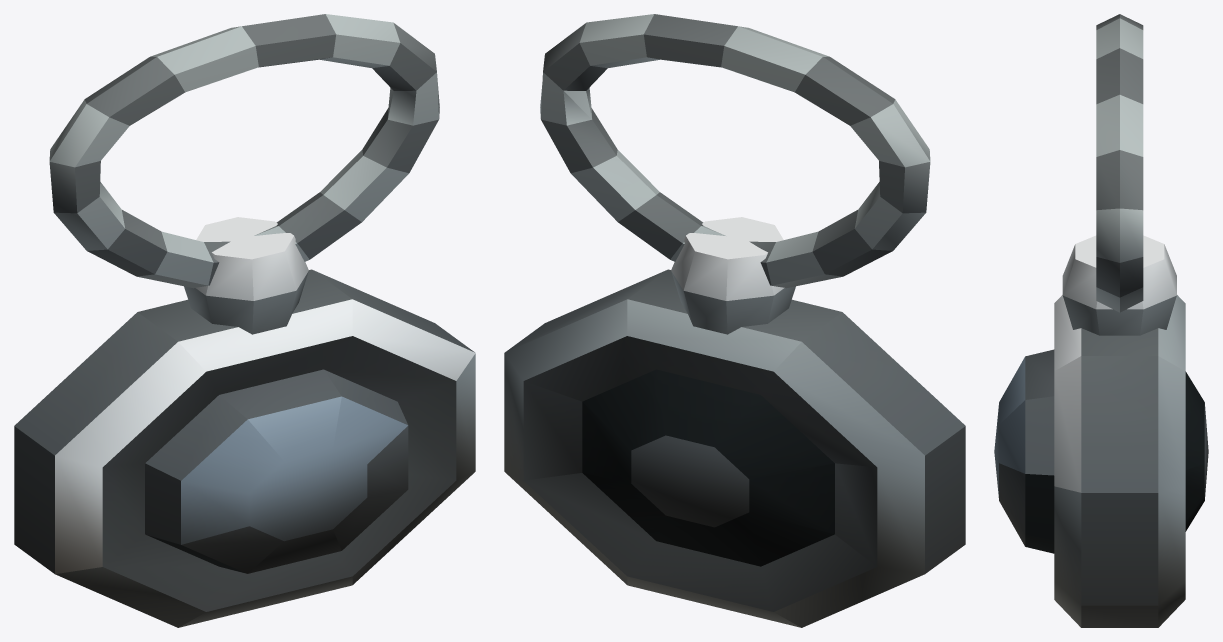
The model's file is amulet_silver_onyx.glb.
3 renders of one model, left to right at view 1: azimuth 30°, elevation 25°; view 2: azimuth 150°, elevation 25°; view 3: azimuth 270°, elevation 25°, orthographic. The views are drawn at different scales.
Visible parts, largest first — view 1: Item; view 2: Item; view 3: Item.
Boxes of the visible parts, x1,y1,x2,y2 form: Item: [14, 14, 475, 627]; Item: [504, 14, 965, 627]; Item: [994, 14, 1208, 627].
Bounding box in the file's own units: 0.56 × 0.72 × 0.26.
3 materials, 3 textured.
